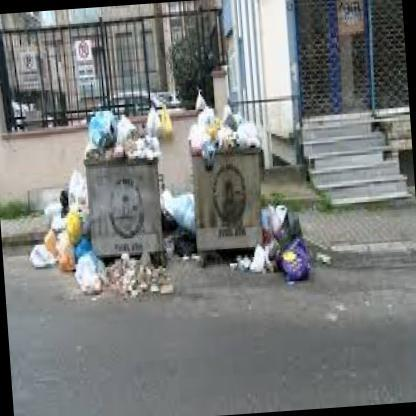Garbage: (170, 105, 272, 151), (86, 107, 160, 164), (60, 177, 90, 241), (266, 201, 306, 248), (77, 247, 111, 296), (162, 194, 194, 236), (55, 212, 75, 278), (244, 241, 273, 282), (22, 236, 52, 272), (284, 238, 309, 280), (76, 263, 100, 306), (131, 278, 174, 302), (86, 110, 121, 139), (148, 111, 176, 140), (203, 115, 224, 139), (40, 230, 58, 254), (202, 147, 221, 168)
